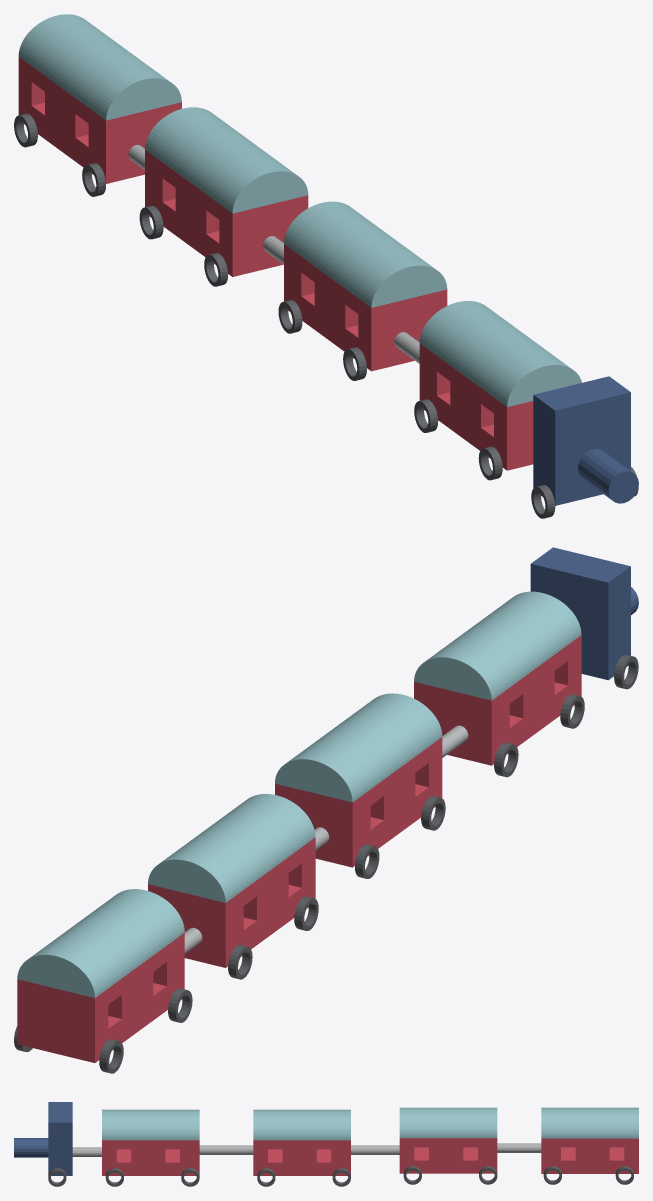
Rendered from Train_P150.glb.
3 views of the same model, one above another, from view 1: azimuth 30°, elevation 25°; view 2: azimuth 150°, elevation 25°; view 3: azimuth 270°, elevation 25° (orthographic). The views are drawn at different scales.
Visible parts, largest first — view 1: Mesh_Mesh_head_geo.001_lambert2SG.001; view 2: Mesh_Mesh_head_geo.001_lambert2SG.001; view 3: Mesh_Mesh_head_geo.001_lambert2SG.001.
Boxes of the visible parts, box(x1,y1,x2,y2) form: Mesh_Mesh_head_geo.001_lambert2SG.001: box(14, 14, 638, 518); Mesh_Mesh_head_geo.001_lambert2SG.001: box(14, 547, 638, 1073); Mesh_Mesh_head_geo.001_lambert2SG.001: box(14, 1102, 638, 1186).
Bounding box in the file's own units: 13.07 × 14.02 × 128.
